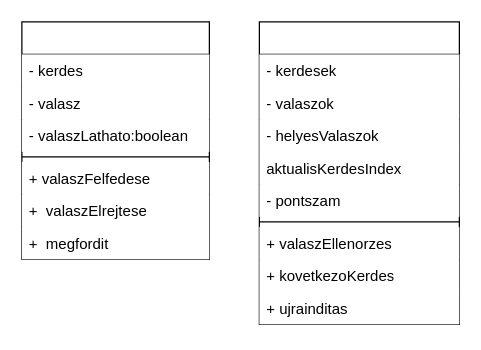
This 481x350 diagram has some shape labels left out. Each missing label, with the box of its shape:
Kvíz: (258, 21, 459, 324)
Tanulokartya: (21, 21, 209, 259)
